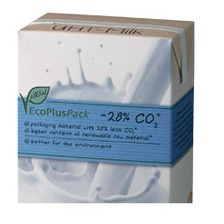carton: (14, 7, 195, 204)
